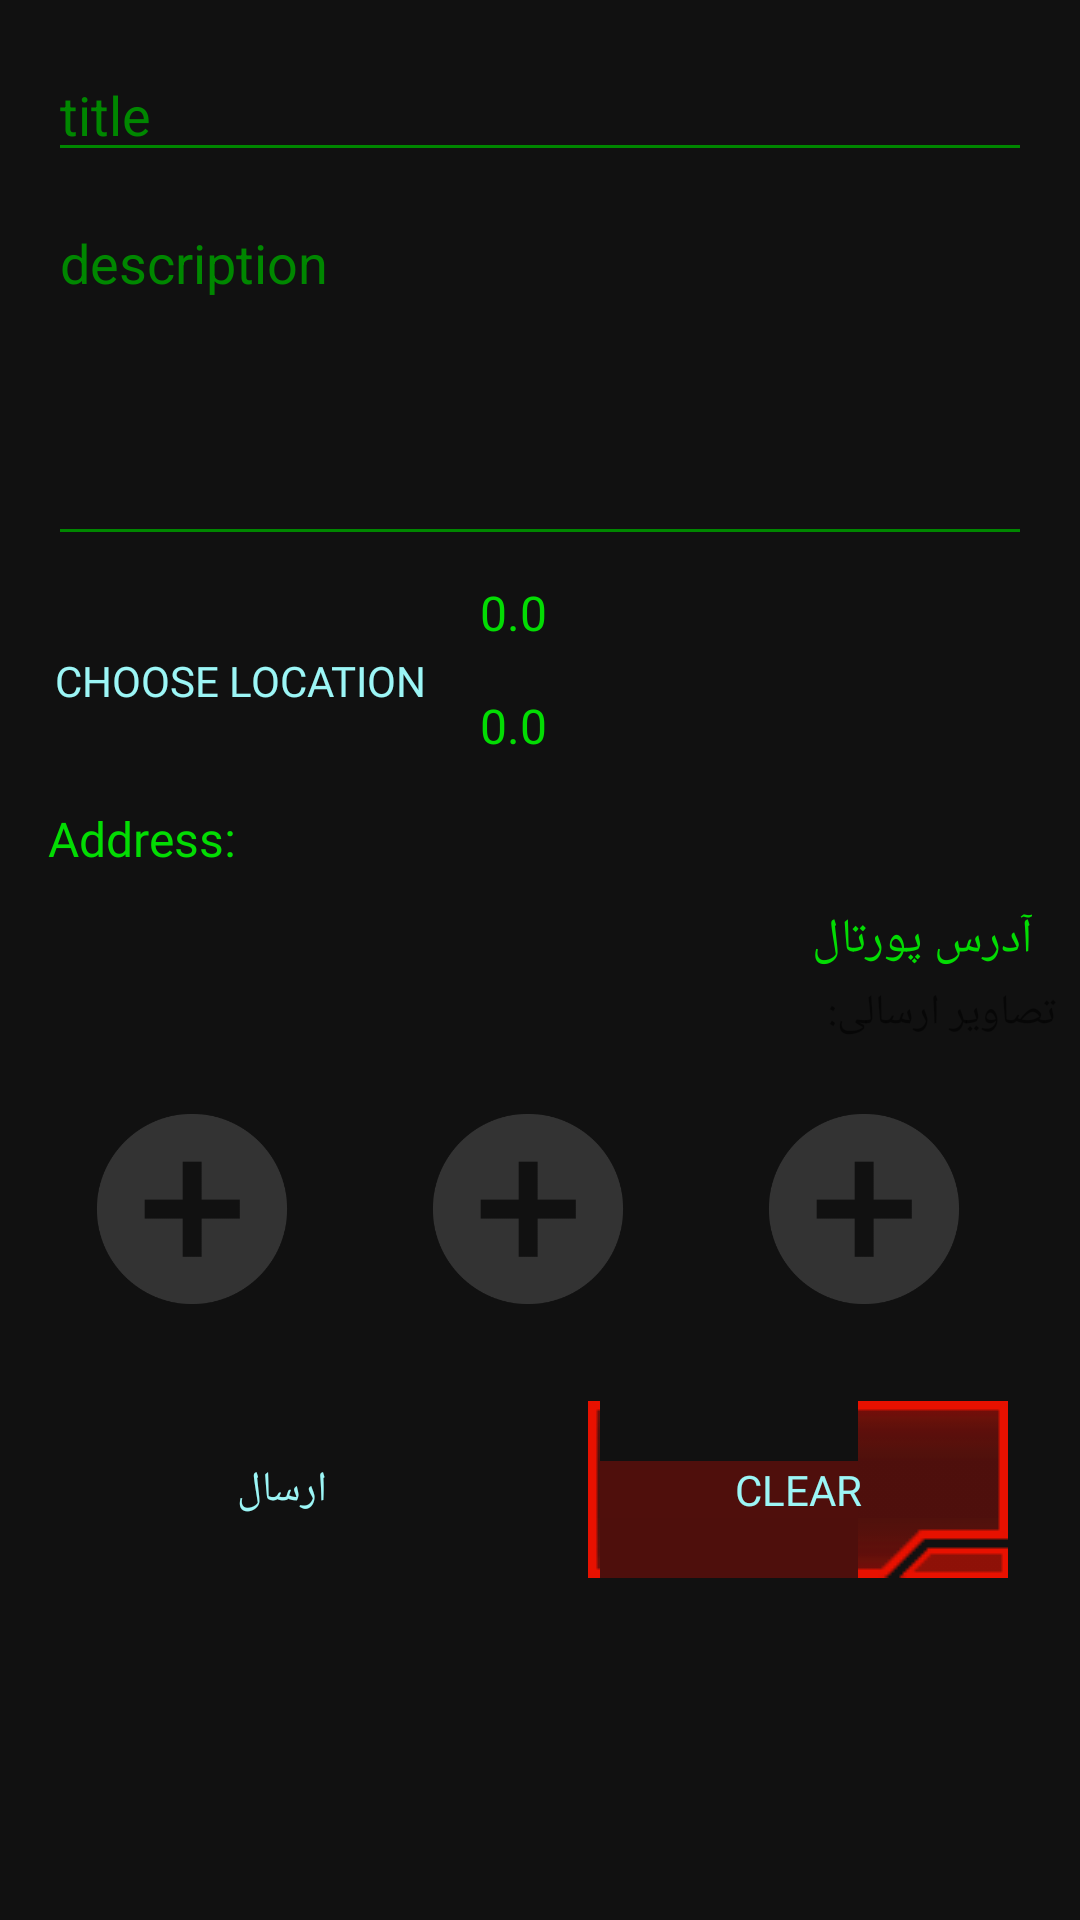

Icon bounding boxes for this 1080*1920 phone screenshot, format box=[x1, y1, x2, y2]:
add: box=[97, 1114, 287, 1304], box=[433, 1114, 623, 1304], box=[769, 1114, 959, 1304]
